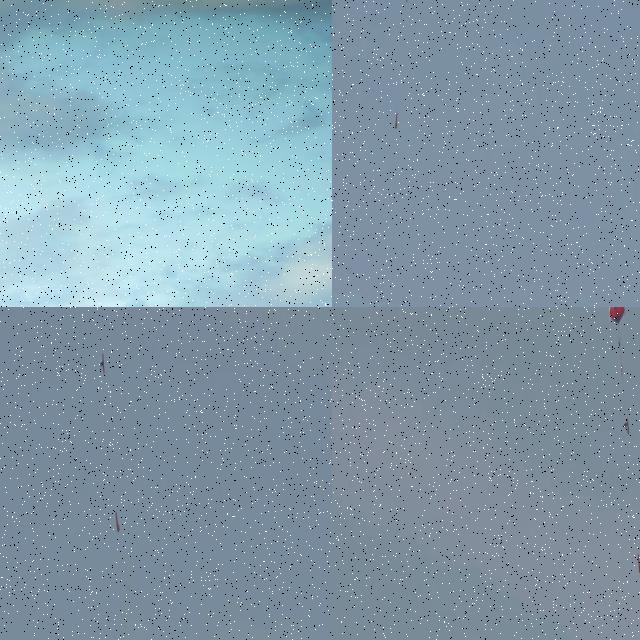Rocket: (116, 512, 120, 532), (395, 112, 398, 128), (638, 554, 640, 572)
